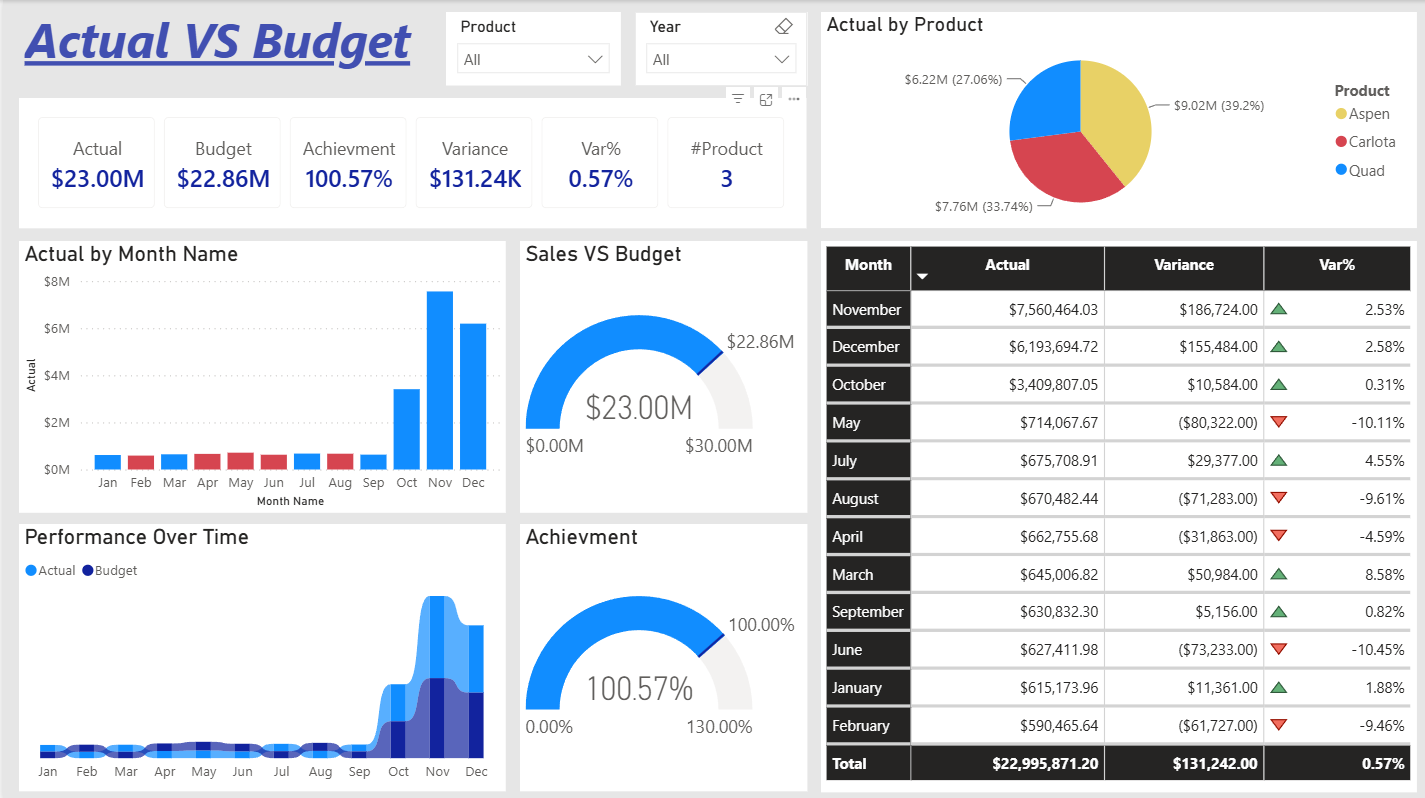

The page's visual inventory and layout, read from the dashboard file:
{"tool":"powerbi","page":{"name":"B vs A","canvas":[1280,720],"ordinal":0},"visuals":[{"type":"cardVisual","fields":{"Data":["Product.Actual","Product.Budget","Product.Achievment","Product.Variance","Product.Var%","Count(Product.Product)"]},"box":[14.6,87.5,707.1,116.7],"z":0},{"type":"textbox","box":[14.6,1,369.6,75.9],"z":1000},{"type":"ribbonChart","title":"Performance Over Time","fields":{"Category":["Calendar.Month Name"],"Y":["Product.Actual","Product.Budget"]},"box":[14.6,470.8,436.7,240.2],"z":2000},{"type":"clusteredColumnChart","fields":{"Y":["Product.Actual"],"Category":["Calendar.Month Name"]},"box":[14.6,215.9,436.7,244.1],"z":3000},{"type":"gauge","title":"Sales VS Budget","fields":{"Y":["Product.Actual"],"TargetValue":["Product.Budget"],"MaxValue":["Product.Max Sales"]},"box":[464,215.9,257.8,244.1],"z":4000},{"type":"gauge","fields":{"Y":["Product.Achievment"]},"box":[464,470.8,257.8,240.2],"z":5000},{"type":"pivotTable","fields":{"Values":["Product.Actual","Product.Variance","Product.Var%"],"Rows":["Calendar.Date.Variation.Date Hierarchy.Month"]},"box":[734.3,215.9,535,495.1],"z":6000},{"type":"slicer","fields":{"Values":["Product.Product"]},"box":[397.8,10.7,156.6,66.1],"z":7000},{"type":"slicer","fields":{"Values":["Calendar.Date.Variation.Date Hierarchy.Year"]},"box":[567.1,10.7,154.7,66.1],"z":8000},{"type":"pieChart","fields":{"Category":["Product.Product"],"Y":["Product.Actual"]},"box":[734.3,10.7,535,193.6],"z":9000}]}

Visuals, with their boxes in screenshot pixels (x1, y1, x2, y2), scaled from the page's 1280x720 canvas onto the 1425x798 screenshot:
cardVisual - Product.Actual x Product.Budget: detection(16, 97, 803, 226)
textbox: detection(16, 1, 428, 85)
"Performance Over Time" ribbonChart: detection(16, 522, 502, 788)
clusteredColumnChart - Product.Actual x Calendar.Month Name: detection(16, 239, 502, 510)
"Sales VS Budget" gauge: detection(517, 239, 804, 510)
gauge - Product.Achievment: detection(517, 522, 804, 788)
pivotTable - Product.Actual x Product.Variance: detection(817, 239, 1413, 788)
slicer - Product.Product: detection(443, 12, 617, 85)
slicer - Calendar.Date.Variation.Date Hierarchy.Year: detection(631, 12, 804, 85)
pieChart - Product.Product x Product.Actual: detection(817, 12, 1413, 226)
